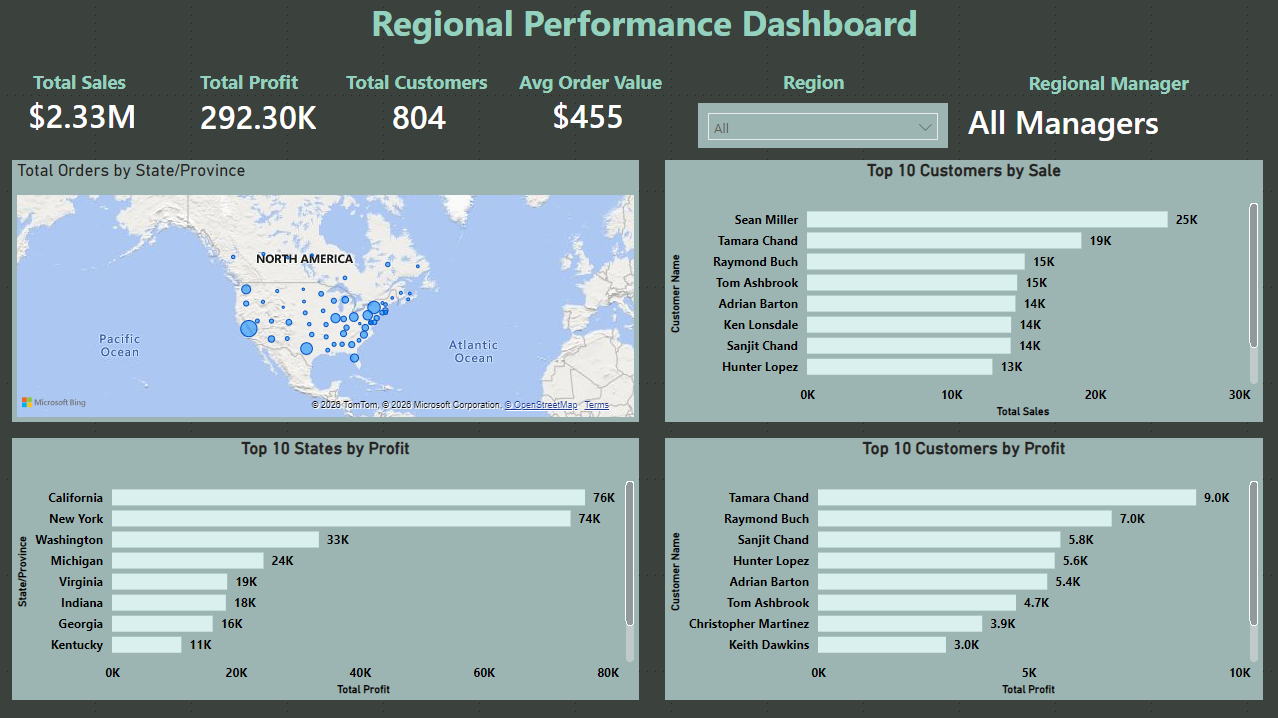

What the dashboard file says about the page in this screenshot:
{"tool":"powerbi","page":{"name":"Regional Performance Dashboard","canvas":[1280,720],"ordinal":3},"visuals":[{"type":"textbox","title":"Regional Performance Dashboard","box":[367.2,0,573,45.5],"z":0},{"type":"textbox","title":"Total Sales","box":[28.7,70.3,104.1,25.3],"z":1000},{"type":"textbox","title":"Total Profit","box":[196,70.3,114.8,25.3],"z":2000},{"type":"textbox","title":"Total Customers","box":[342.4,70.3,155.4,24.7],"z":3000},{"type":"textbox","title":"Avg Order Value","box":[514.6,70.3,154.4,25.7],"z":4000},{"type":"cardVisual","title":"Total Sales","fields":{"Data":["Measures (2).Total Sales"]},"box":[0,81.2,196.9,67.3],"z":5000},{"type":"cardVisual","title":"Total Sales","fields":{"Data":["Measures (2).Total Profit"]},"box":[172.2,84.1,177.2,63.3],"z":6000},{"type":"cardVisual","title":"Total Sales","fields":{"Data":["Measures (2).Total Customers"]},"box":[364.2,83.1,112.8,64.3],"z":7000},{"type":"cardVisual","title":"Total Sales","fields":{"Data":["Measures (2).Average Order Value"]},"box":[523.5,82.1,130.6,65.3],"z":8000},{"type":"clusteredBarChart","title":"Top 10 Customers by Profit","fields":{"Category":["Orders.Customer Name"],"Y":["Measures (2).Total Profit"]},"box":[666.1,439.4,597.8,261.3],"z":9000},{"type":"clusteredBarChart","title":"Top 10 Customers by Sale","fields":{"Category":["Orders.Customer Name"],"Y":["Measures (2).Total Sales"]},"box":[666.1,161.3,597.8,261.3],"z":10000},{"type":"slicer","title":"Year","fields":{"Values":["People.Region"]},"box":[698.7,103.9,250.4,45.5],"z":11000},{"type":"textbox","title":"Region","box":[778.9,70.3,91.1,25.7],"z":12000},{"type":"textbox","title":"Regional Manager","box":[1013.4,71.3,193,25.7],"z":13000},{"type":"map","fields":{"Category":["Orders.State/Province"],"Size":["Measures (2).Total Orders"]},"box":[12.9,161.3,627.5,261.3],"z":14000},{"type":"clusteredBarChart","title":"Top 10 States by Profit","fields":{"Category":["Orders.State/Province"],"Y":["Measures (2).Total Profit"]},"box":[12.9,439.4,627.5,261.3],"z":15000},{"type":"cardVisual","title":"Total Sales","fields":{"Data":["Measures (2).Selected Regional Manager"]},"box":[940.2,82.1,339.5,77.2],"z":16000}]}

Visuals, with their boxes in screenshot pixels (x1, y1, x2, y2), scaled from the page's 1280x720 canvas onto the 1278x718 screenshot:
"Regional Performance Dashboard" textbox: box=[367, 0, 939, 45]
"Total Sales" textbox: box=[29, 70, 133, 95]
"Total Profit" textbox: box=[196, 70, 310, 95]
"Total Customers" textbox: box=[342, 70, 497, 95]
"Avg Order Value" textbox: box=[514, 70, 668, 96]
"Total Sales" cardVisual: box=[0, 81, 197, 148]
"Total Sales" cardVisual: box=[172, 84, 349, 147]
"Total Sales" cardVisual: box=[364, 83, 476, 147]
"Total Sales" cardVisual: box=[523, 82, 653, 147]
"Top 10 Customers by Profit" clusteredBarChart: box=[665, 438, 1262, 699]
"Top 10 Customers by Sale" clusteredBarChart: box=[665, 161, 1262, 421]
"Year" slicer: box=[698, 104, 948, 149]
"Region" textbox: box=[778, 70, 869, 96]
"Regional Manager" textbox: box=[1012, 71, 1205, 97]
map - Orders.State/Province x Measures (2).Total Orders: box=[13, 161, 639, 421]
"Top 10 States by Profit" clusteredBarChart: box=[13, 438, 639, 699]
"Total Sales" cardVisual: box=[939, 82, 1277, 159]
